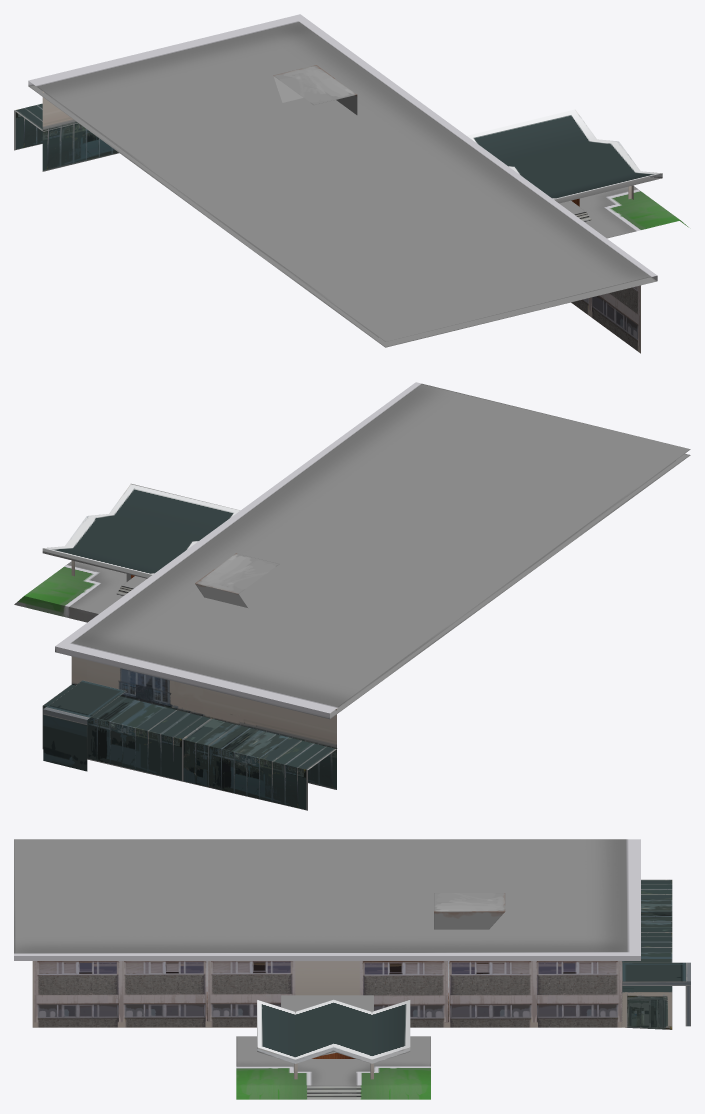
Rendered from University_Center.obj.
3 views of the same model, one above another, from view 1: azimuth 30°, elevation 25°; view 2: azimuth 150°, elevation 25°; view 3: azimuth 270°, elevation 25° (orthographic). The views are drawn at different scales.
Parts seen in each view (by area): view 1: University_Centre_4_Mesh.1131, University_Centre_1_Mesh.1128, University_Centre_3_Mesh.1130, University_Centre_7_Mesh.1134, University_Centre_10_Mesh.1137, University_Centre_9_Mesh.1136; view 2: University_Centre_4_Mesh.1131, University_Centre_9_Mesh.1136, University_Centre_1_Mesh.1128, University_Centre_3_Mesh.1130, University_Centre_7_Mesh.1134, University_Centre_8_Mesh.1135, University_Centre_10_Mesh.1137; view 3: University_Centre_4_Mesh.1131, University_Centre_3_Mesh.1130, University_Centre_7_Mesh.1134, University_Centre_1_Mesh.1128, University_Centre_9_Mesh.1136, University_Centre_10_Mesh.1137, University_Centre_8_Mesh.1135, University_Centre_5_Mesh.1132.
Boxes of the visible parts, x1,y1,x2,y2 form: University_Centre_4_Mesh.1131: (28,14,657,347); University_Centre_1_Mesh.1128: (467,109,662,203); University_Centre_3_Mesh.1130: (42,91,640,353); University_Centre_7_Mesh.1134: (559,186,688,238); University_Centre_10_Mesh.1137: (273,65,357,114); University_Centre_9_Mesh.1136: (14,103,78,150); University_Centre_4_Mesh.1131: (55,382,690,719); University_Centre_9_Mesh.1136: (42,684,337,810); University_Centre_1_Mesh.1128: (42,483,240,578); University_Centre_3_Mesh.1130: (71,460,675,789); University_Centre_7_Mesh.1134: (14,561,126,622); University_Centre_8_Mesh.1135: (43,680,126,771); University_Centre_10_Mesh.1137: (195,553,279,607); University_Centre_4_Mesh.1131: (14,839,640,960); University_Centre_3_Mesh.1130: (32,961,622,1027); University_Centre_7_Mesh.1134: (236,1036,430,1099); University_Centre_1_Mesh.1128: (257,999,410,1063); University_Centre_9_Mesh.1136: (621,879,672,1029); University_Centre_10_Mesh.1137: (434,893,505,929); University_Centre_8_Mesh.1135: (622,962,690,1026); University_Centre_5_Mesh.1132: (281,995,373,1013).
Size of the model in its own units: 0.0473 by 0.0114 by 0.0731.
